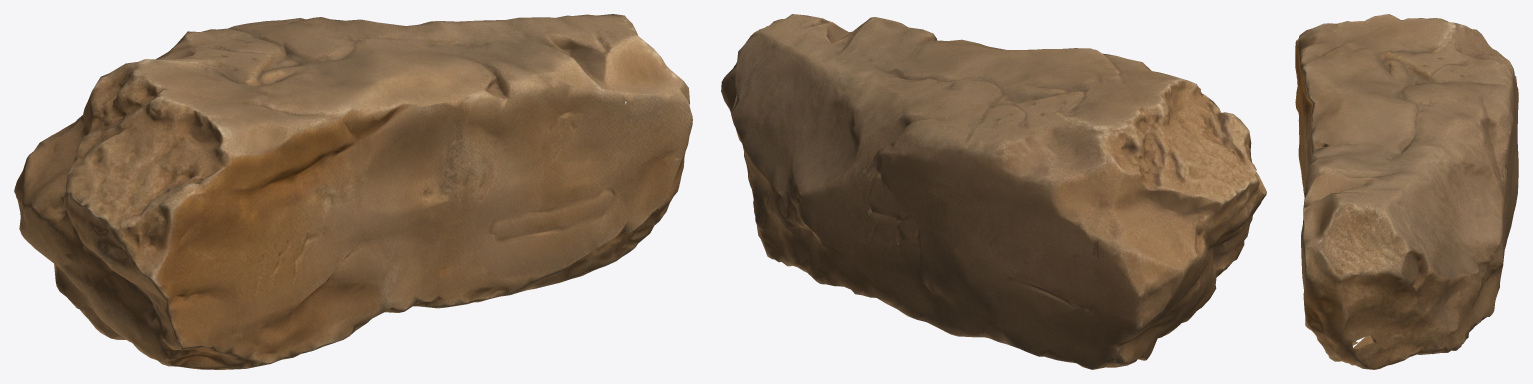
Rendered from gobustan-rock.glb.
3 views of the same model, side by side, from view 1: azimuth 30°, elevation 25°; view 2: azimuth 150°, elevation 25°; view 3: azimuth 270°, elevation 25° (orthographic). The views are drawn at different scales.
Visible parts, largest first — view 1: geom0; view 2: geom0; view 3: geom0.
Boxes of the visible parts, left/top/right/bottom form: geom0: left=14, top=14, right=692, bottom=369; geom0: left=721, top=14, right=1266, bottom=369; geom0: left=1295, top=14, right=1518, bottom=369.
Size of the model in its own units: 1.8 by 0.7681 by 0.7709.
Materials: 1 (1 with a texture image).
